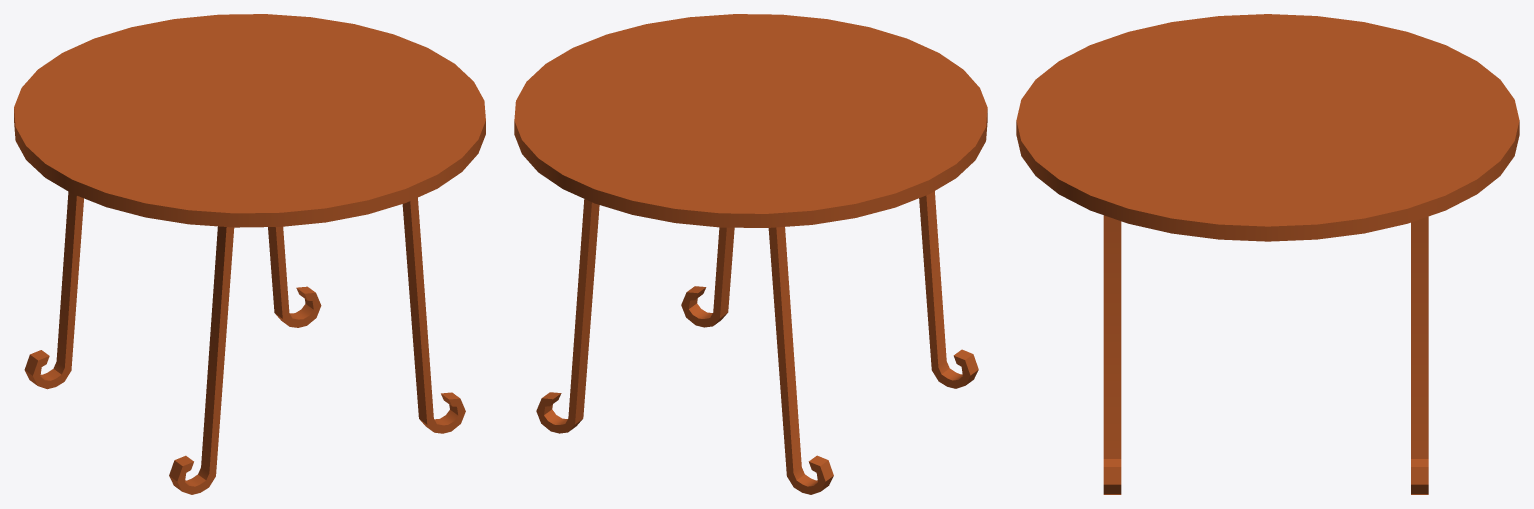
The model's file is alexc_table_round.fbx.
3 renders of one model, left to right at view 1: azimuth 30°, elevation 25°; view 2: azimuth 150°, elevation 25°; view 3: azimuth 270°, elevation 25°, orthographic. The views are drawn at different scales.
Visible parts, largest first — view 1: tableround; view 2: tableround; view 3: tableround.
Boxes of the visible parts, box(x1,y1,x2,y2) form: tableround: box(14, 14, 485, 494); tableround: box(514, 14, 987, 494); tableround: box(1016, 14, 1519, 494).
Bounding box in the file's own units: 519 × 519 × 353.
